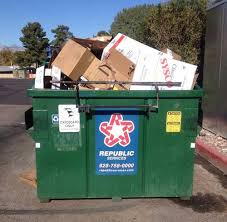Dumpster: (23, 75, 207, 205)
